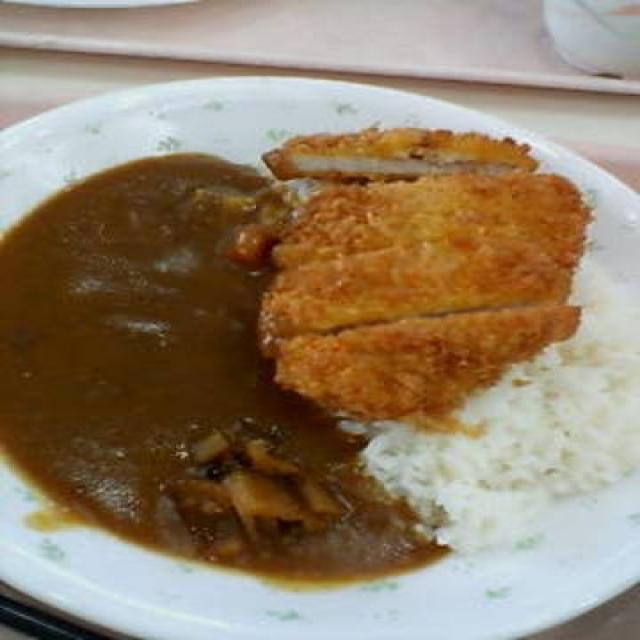猪肉菜式: (0, 69, 640, 640)
